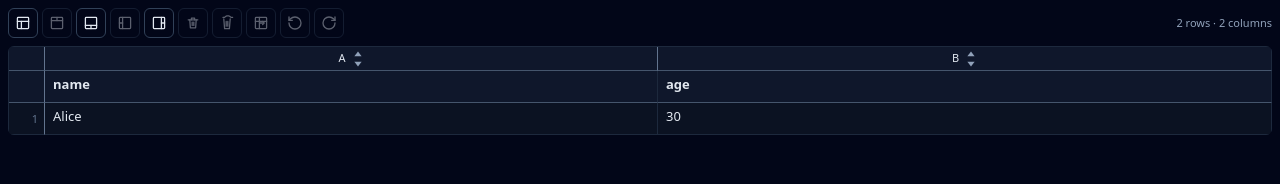
Scenario: CsvPreview (custom grid) › Insert row above toolbar button inserts a row before the active row
The width and height of the screenshot is (1280, 184).
Press the mouse on the cell "1": coordinates (27, 119) x1=9 y1=103 x2=45 y2=135
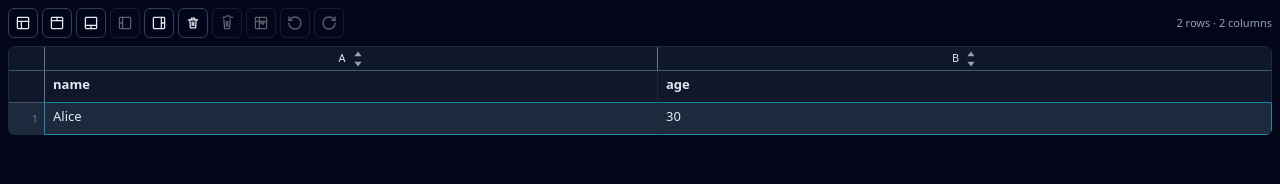
Click the button named "Insert row above": coordinates (57, 23) x1=42 y1=8 x2=72 y2=38
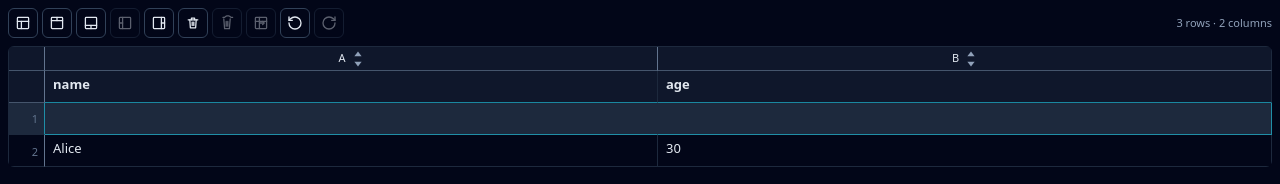
Check: the text "3 rows · 2 columns" is shown, box x1=1176 y1=16 x2=1272 y2=30
